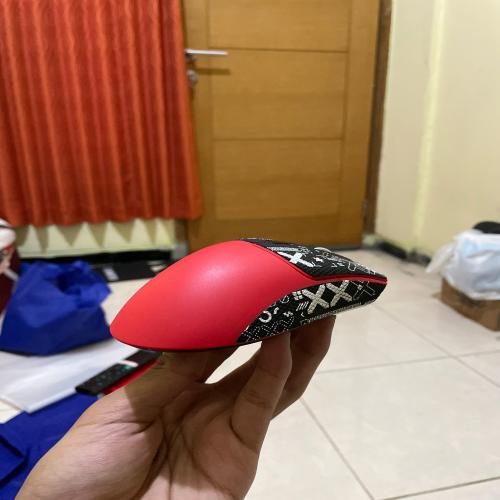Mouse: (101, 229, 403, 356)
